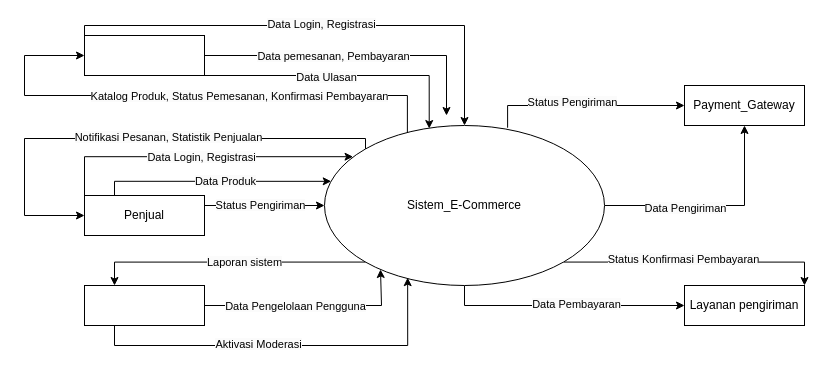
Image size: 830x371. Some labels were removed from this diagram. The shapes that lost their labels are listed below. From the top down, each one's centre as x and y in pixels, then its label:
At (144,55): "Pembeli".
At (144,305): "Admin".
